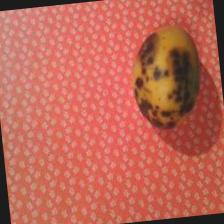Mango Rotten: (131, 18, 208, 133)
